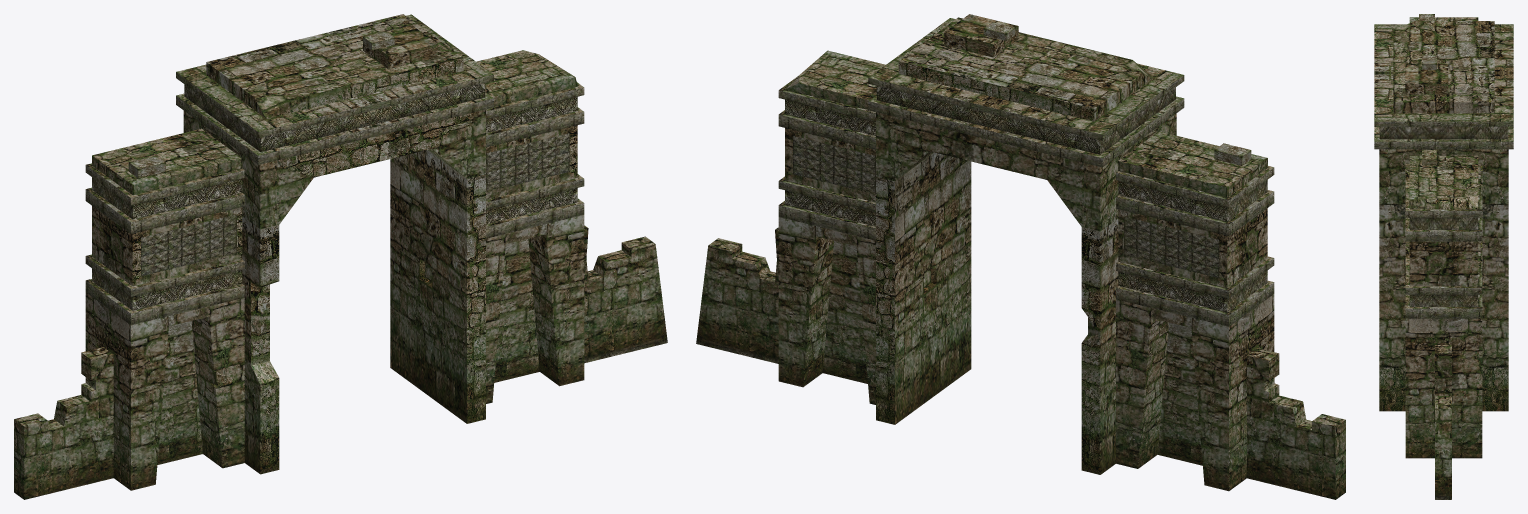
Rendered from CARC01.glb.
3 renders of one model, left to right at view 1: azimuth 30°, elevation 25°; view 2: azimuth 150°, elevation 25°; view 3: azimuth 270°, elevation 25°, orthographic. The views are drawn at different scales.
Visible parts, largest first — view 1: _CARC01; view 2: _CARC01; view 3: _CARC01.
Boxes of the visible parts, x1,y1,x2,y2 form: _CARC01: (14, 14, 667, 499); _CARC01: (696, 14, 1345, 499); _CARC01: (1374, 14, 1513, 499).
Size of the model in its own units: 13.03 by 7.34 by 2.89.
1 material, 1 textured.
